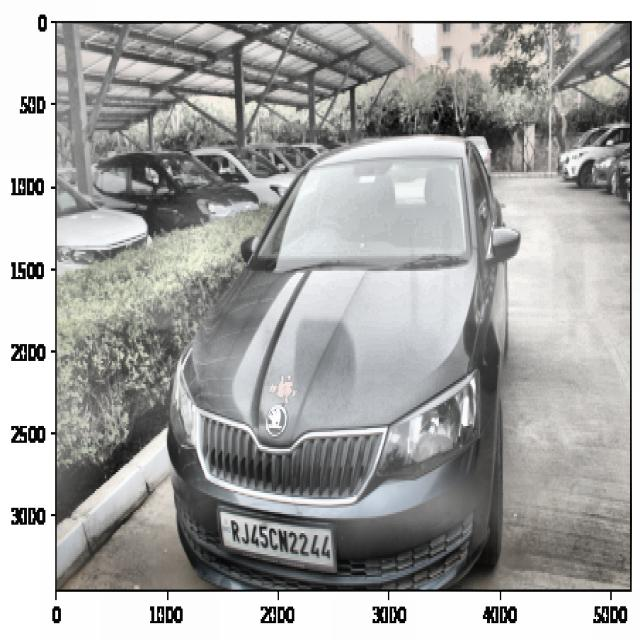license_plate: (226, 511, 333, 565)
